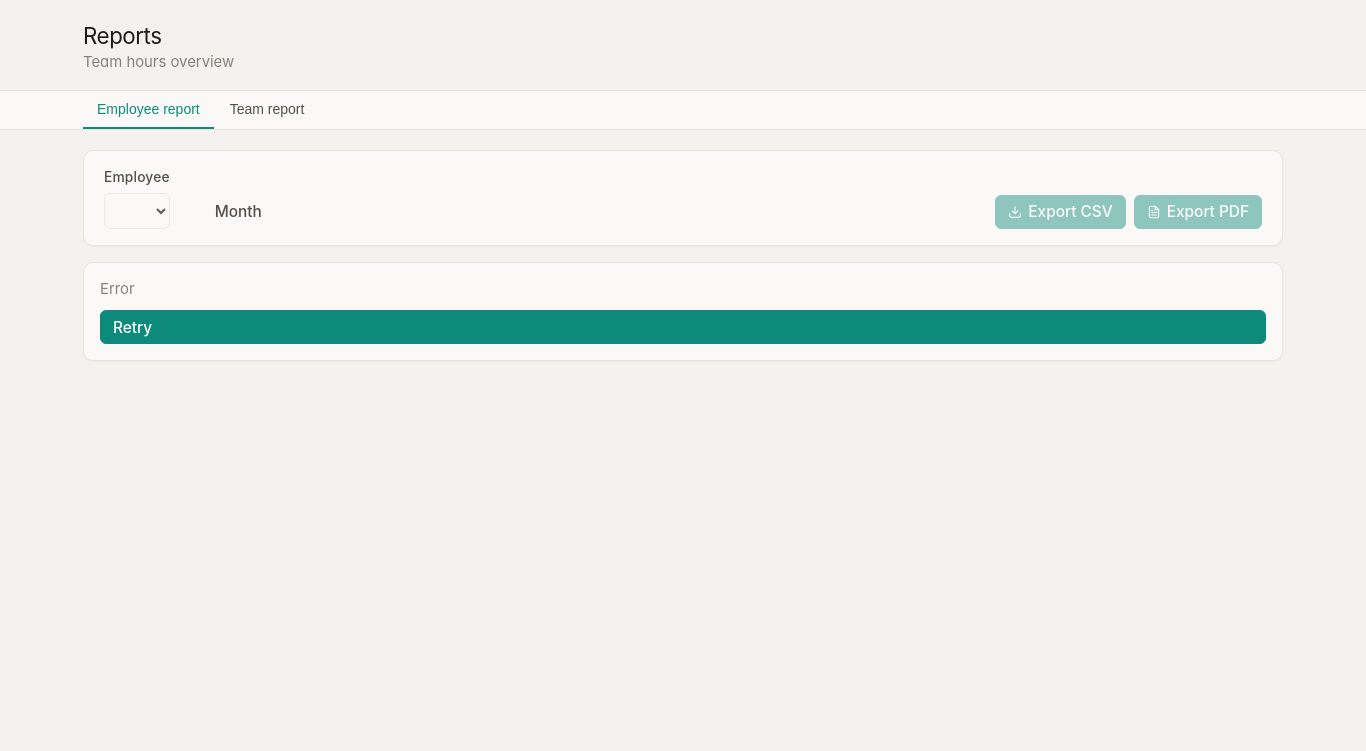
Test: Reports › retries a failed linked-user load without changing its target
Click the button "Retry" at (133, 327), box [100,310,1266,344]
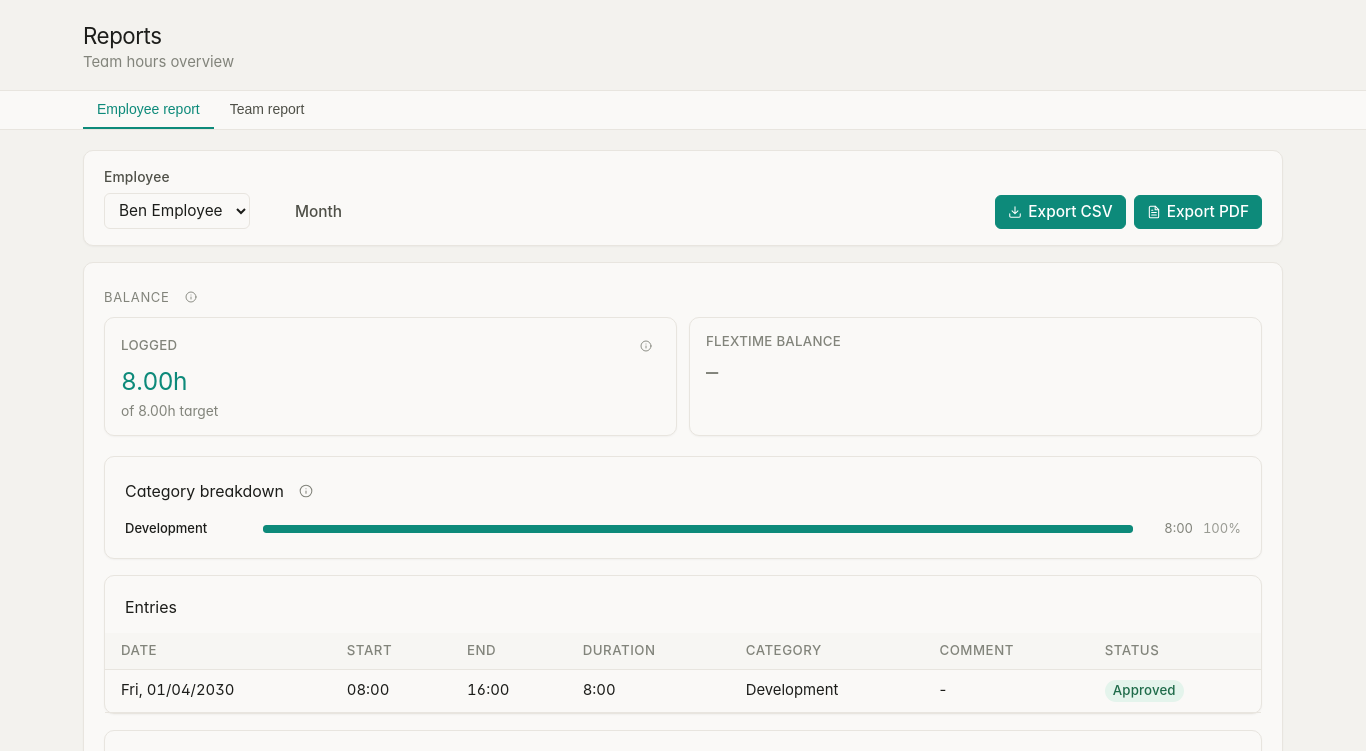
Check: the text "Retry" is gone
Check: the dropdown with id "reports-user-select" shows "Ben Employee", box [104,193,250,229]
